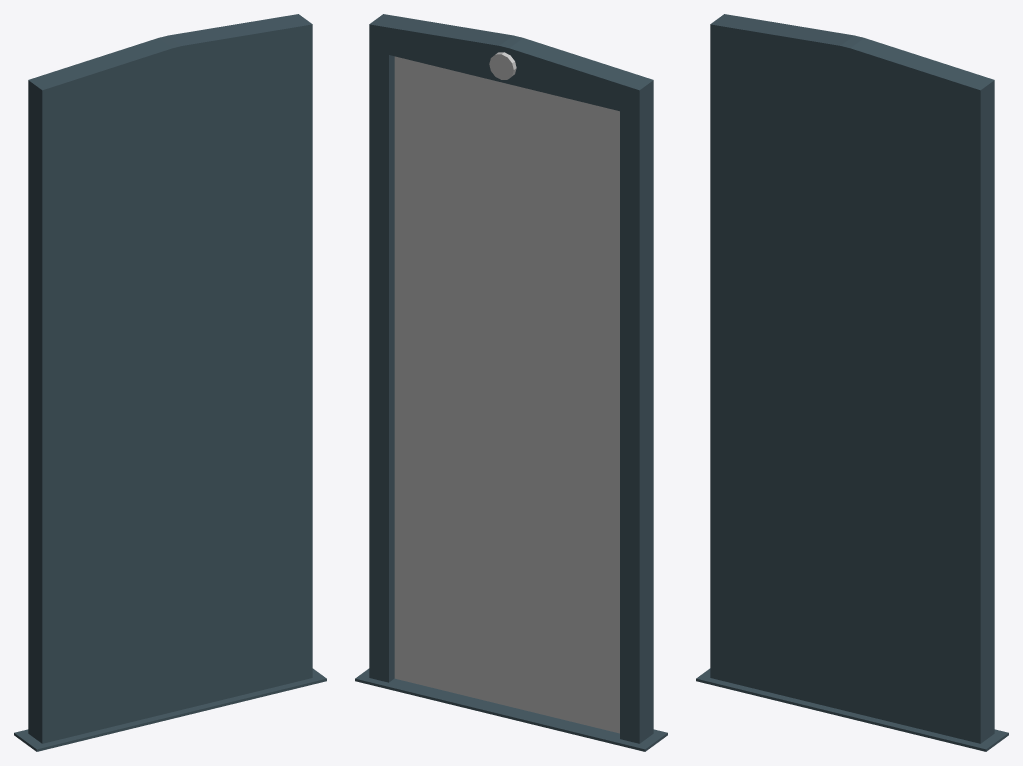
The model's file is doorway.fbx.
3 views of the same model, side by side, from view 1: azimuth 30°, elevation 25°; view 2: azimuth 150°, elevation 25°; view 3: azimuth 330°, elevation 25° (orthographic).
Visible parts, largest first — view 1: mesh_2099314711, mesh_1917121689, mesh_1241545289, mesh_149320187, mesh_815546237, mesh_1503009531, mesh_1805614077; view 2: mesh_306414979, mesh_1917121689, mesh_1241545289, mesh_149320187, mesh_815546237, mesh_1503009531, mesh_221459585; view 3: mesh_2099314711, mesh_1241545289, mesh_1917121689, mesh_815546237, mesh_149320187, mesh_1503009531, mesh_1805614077.
Boxes of the visible parts, left/top/right/bottom form: mesh_2099314711: left=62, top=55, right=292, bottom=738; mesh_1917121689: left=28, top=106, right=61, bottom=743; mesh_1241545289: left=293, top=50, right=312, bottom=682; mesh_149320187: left=28, top=38, right=172, bottom=115; mesh_815546237: left=168, top=14, right=312, bottom=81; mesh_1503009531: left=14, top=668, right=326, bottom=751; mesh_1805614077: left=159, top=35, right=182, bottom=83; mesh_306414979: left=394, top=56, right=619, bottom=733; mesh_1917121689: left=620, top=106, right=653, bottom=743; mesh_1241545289: left=369, top=50, right=394, bottom=682; mesh_149320187: left=509, top=38, right=653, bottom=115; mesh_815546237: left=369, top=14, right=513, bottom=81; mesh_1503009531: left=355, top=668, right=667, bottom=751; mesh_221459585: left=489, top=52, right=516, bottom=79; mesh_2099314711: left=730, top=55, right=960, bottom=738; mesh_1241545289: left=961, top=106, right=994, bottom=743; mesh_1917121689: left=710, top=50, right=729, bottom=682; mesh_815546237: left=850, top=38, right=994, bottom=115; mesh_149320187: left=710, top=14, right=854, bottom=81; mesh_1503009531: left=696, top=668, right=1008, bottom=751; mesh_1805614077: left=840, top=35, right=863, bottom=83.
Size of the model in its own units: 118 by 259 by 16.
